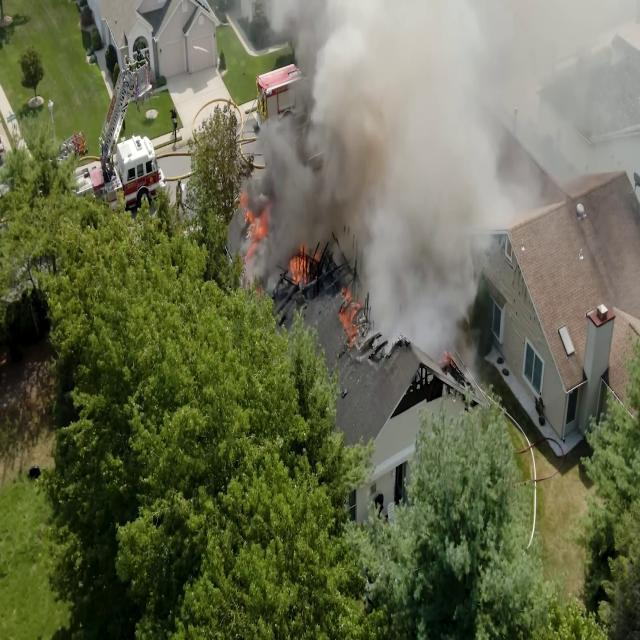Smoke: (315, 0, 485, 215), (263, 121, 348, 231)
